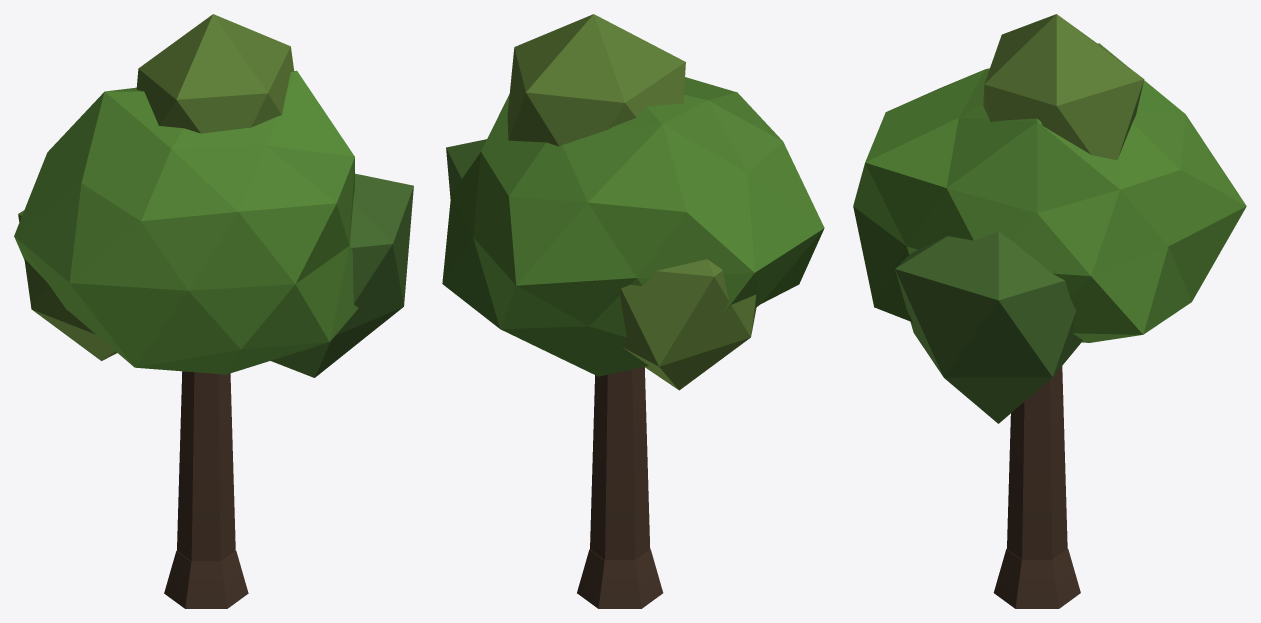
The model's file is e_tree_a.glb.
The picture shows the model from 3 angles, left to right: view 1: azimuth 30°, elevation 25°; view 2: azimuth 150°, elevation 25°; view 3: azimuth 270°, elevation 25°; orthographic projection. The views are drawn at different scales.
Parts seen in each view (by area): view 1: e_tree_a; view 2: e_tree_a; view 3: e_tree_a.
Part boxes in pixels (x1,y1,x2,y2): e_tree_a: (14,14,413,608); e_tree_a: (442,14,824,608); e_tree_a: (853,14,1246,608).
Bounding box in the file's own units: 4.39 × 6.68 × 4.06.
